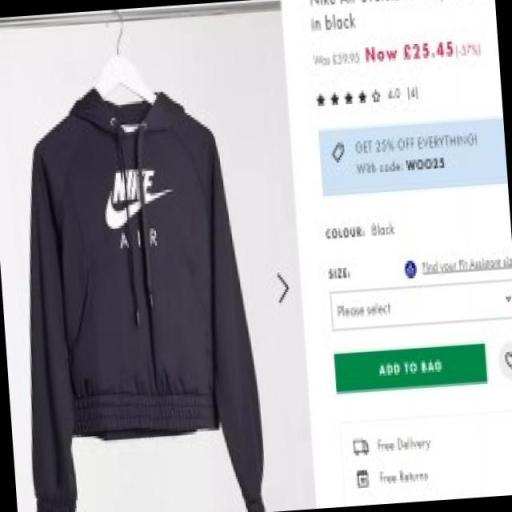Nike: (100, 195, 166, 234), (110, 167, 156, 206)
